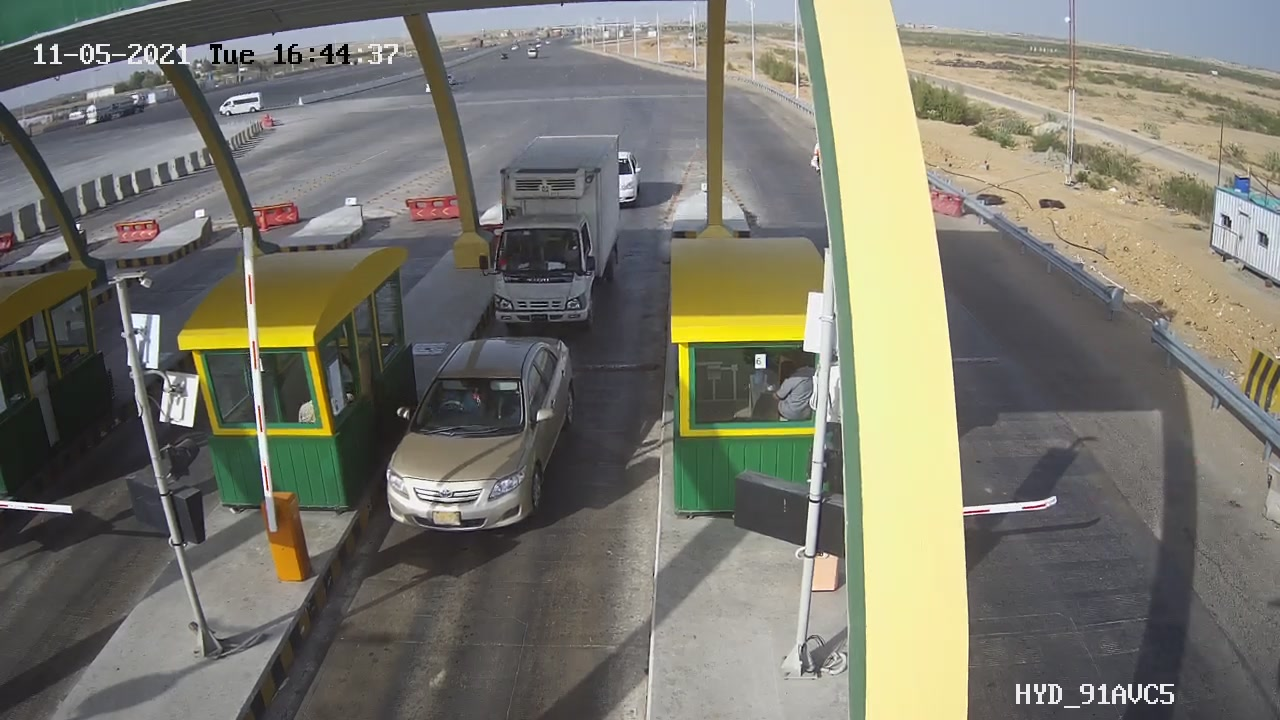F1: (362, 321, 606, 554)
F5: (477, 122, 633, 337)
